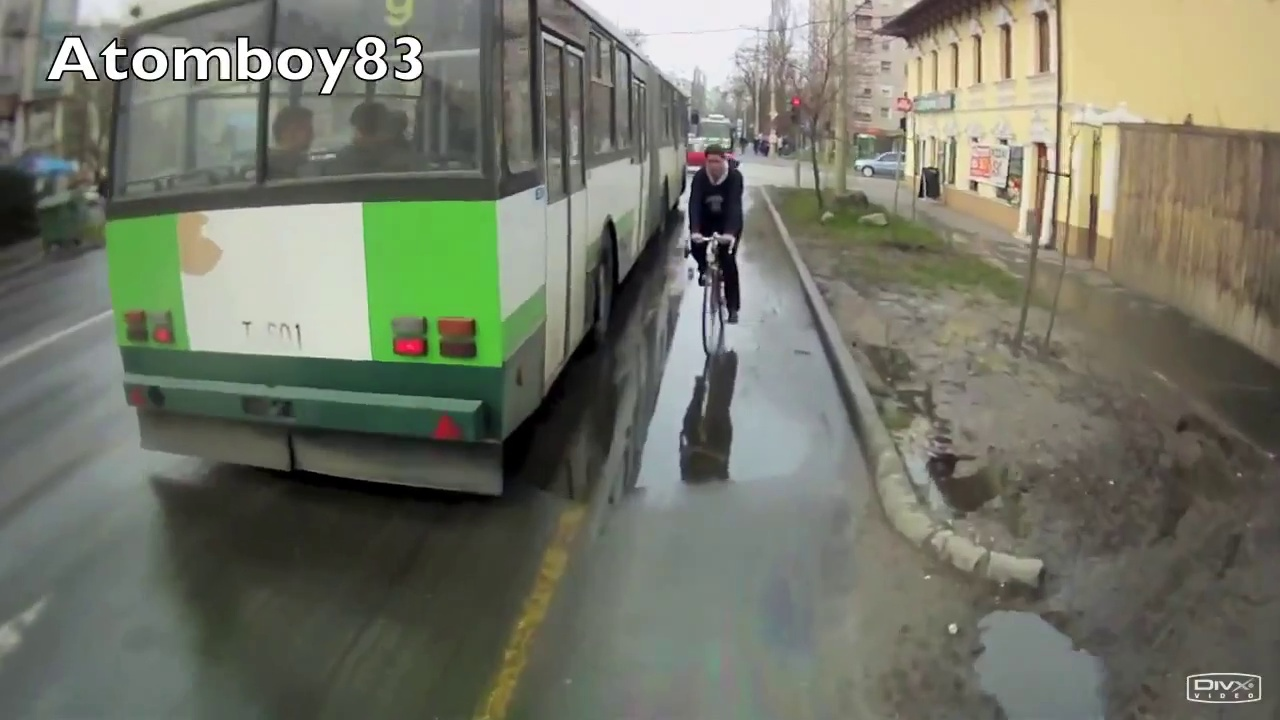cyclist_front: (678, 137, 748, 359)
